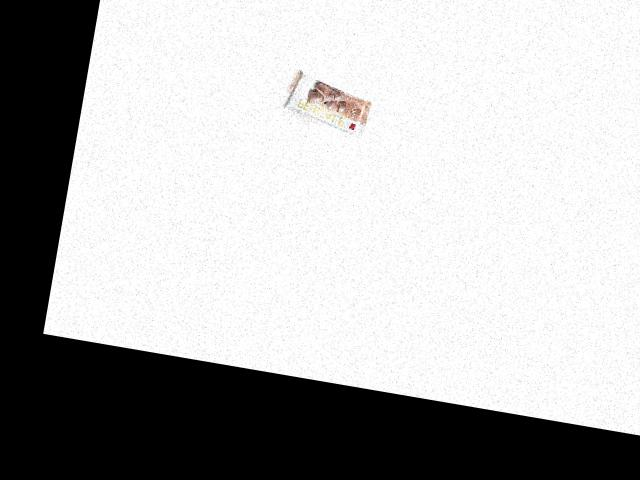chocolate: (284, 62, 376, 143)
